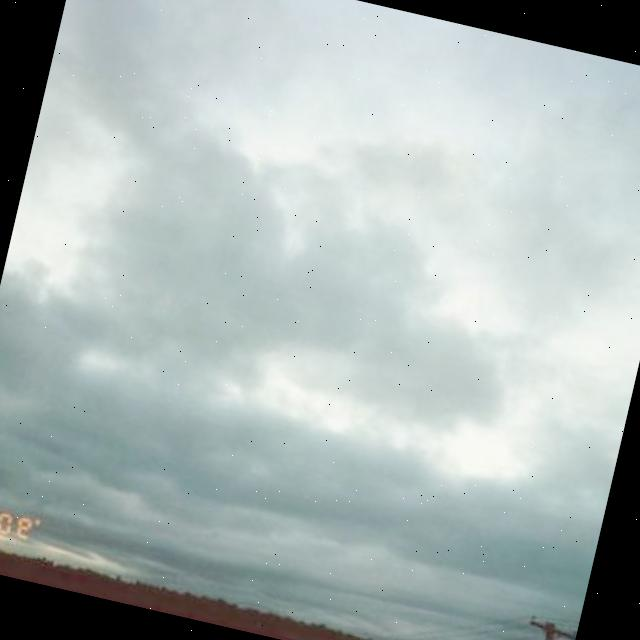St: (1, 15, 640, 531)
